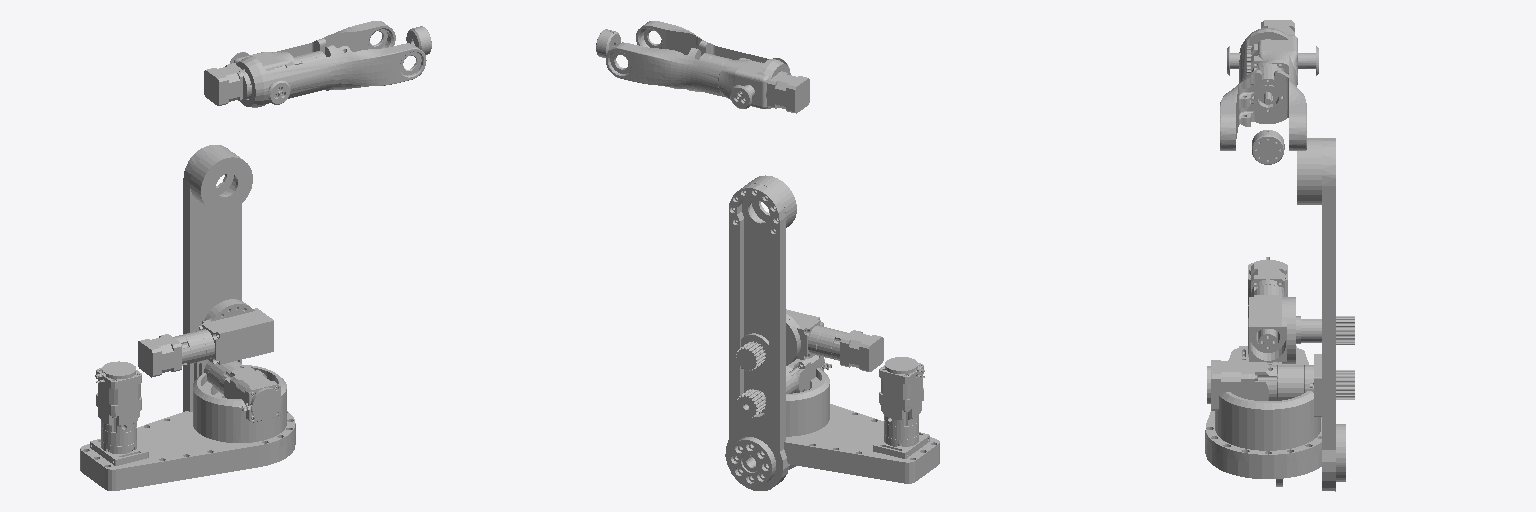
robot.urdf — robotic_arm:
<?xml version="1.0" encoding="utf-8"?>
<!-- This URDF was automatically created by SolidWorks to URDF Exporter! Originally created by [author] ([email redacted]) 
     Commit Version: 1.6.0-4-g7f85cfe  Build Version: 1.6.7995.38578
     For more information, please see http://wiki.ros.org/sw_urdf_exporter -->
<robot
  name="robotic_arm">
  <link
    name="base_link">
    <inertial>
      <origin
        xyz="-0.064318 0.039257 -2.9623E-07"
        rpy="0 0 0" />
      <mass
        value="0.83438" />
      <inertia
        ixx="0.00098057"
        ixy="2.6509E-06"
        ixz="-6.484E-08"
        iyy="0.0033643"
        iyz="3.8674E-10"
        izz="0.0027303" />
    </inertial>
    <visual>
      <origin
        xyz="0 0 0"
        rpy="0 0 0" />
      <geometry>
        <mesh
          filename="package://arm_control/description/meshes/base_link.STL" />
      </geometry>
      <material
        name="">
        <color
          rgba="0.75294 0.75294 0.75294 1" />
      </material>
    </visual>
    <collision>
      <origin
        xyz="0 0 0"
        rpy="0 0 0" />
      <geometry>
        <mesh
          filename="package://arm_control/description/meshes/base_link.STL" />
      </geometry>
    </collision>
  </link>
  <link
    name="Link2">
    <inertial>
      <origin
        xyz="4.7367E-05 0.10668 0.020948"
        rpy="0 0 0" />
      <mass
        value="0.97007" />
      <inertia
        ixx="0.0010278"
        ixy="-3.2684E-07"
        ixz="-5.2705E-07"
        iyy="0.001187"
        iyz="2.9768E-06"
        izz="0.00070562" />
    </inertial>
    <visual>
      <origin
        xyz="0 0 0"
        rpy="0 0 0" />
      <geometry>
        <mesh
          filename="package://arm_control/description/meshes/Link2.STL" />
      </geometry>
      <material
        name="">
        <color
          rgba="0.75294 0.75294 0.75294 1" />
      </material>
    </visual>
    <collision>
      <origin
        xyz="0 0 0"
        rpy="0 0 0" />
      <geometry>
        <mesh
          filename="package://arm_control/description/meshes/Link2.STL" />
      </geometry>
    </collision>
  </link>
  <joint
    name="J1"
    type="revolute">
    <origin
      xyz="0 0 0"
      rpy="1.5708 0 0" />
    <parent
      link="base_link" />
    <child
      link="Link2" />
    <axis
      xyz="0 1 0" />
    <limit
      lower="0"
      upper="6.28"
      effort="10"
      velocity="10" />
  </joint>
  <link
    name="Link3">
    <inertial>
      <origin
        xyz="-1.46417876076533E-06 0.117729185705366 -0.0378668860722142"
        rpy="0 0 0" />
      <mass
        value="0.577415758791342" />
      <inertia
        ixx="0.0036047406071256"
        ixy="6.47760305401987E-08"
        ixz="1.20114307201049E-07"
        iyy="0.000412136925722125"
        iyz="-1.52201263463148E-05"
        izz="0.00360983067595921" />
    </inertial>
    <visual>
      <origin
        xyz="0 0 0"
        rpy="0 0 0" />
      <geometry>
        <mesh
          filename="package://arm_control/description/meshes/Link3.STL" />
      </geometry>
      <material
        name="">
        <color
          rgba="0.752941176470588 0.752941176470588 0.752941176470588 1" />
      </material>
    </visual>
    <collision>
      <origin
        xyz="0 0 0"
        rpy="0 0 0" />
      <geometry>
        <mesh
          filename="package://arm_control/description/meshes/Link3.STL" />
      </geometry>
    </collision>
  </link>
  <joint
    name="J2"
    type="revolute">
    <origin
      xyz="0 0.14 0"
      rpy="0 0 0" />
    <parent
      link="Link2" />
    <child
      link="Link3" />
    <axis
      xyz="0 0 1" />
    <limit
      lower="-1.570796"
      upper="1.570796"
      effort="10"
      velocity="10" />
  </joint>
  <link
    name="Link4">
    <inertial>
      <origin
        xyz="-0.0328882111255075 8.45678153449381E-07 -0.0129958354849986"
        rpy="0 0 0" />
      <mass
        value="0.251663957012598" />
      <inertia
        ixx="6.72067273429369E-05"
        ixy="4.83904268931015E-09"
        ixz="-2.18784718458252E-08"
        iyy="0.000125285505512965"
        iyz="3.49876226111741E-15"
        izz="0.000132327236956115" />
    </inertial>
    <visual>
      <origin
        xyz="0 0 0"
        rpy="0 0 0" />
      <geometry>
        <mesh
          filename="package://arm_control/description/meshes/Link4.STL" />
      </geometry>
      <material
        name="">
        <color
          rgba="0.752941176470588 0.752941176470588 0.752941176470588 1" />
      </material>
    </visual>
    <collision>
      <origin
        xyz="0 0 0"
        rpy="0 0 0" />
      <geometry>
        <mesh
          filename="package://arm_control/description/meshes/Link4.STL" />
      </geometry>
    </collision>
  </link>
  <joint
    name="J3"
    type="revolute">
    <origin
      xyz="0 0.322 0"
      rpy="0 0 0" />
    <parent
      link="Link3" />
    <child
      link="Link4" />
    <axis
      xyz="0 0 1" />
    <limit
      lower="-1.5708"
      upper="1.5708"
      effort="10"
      velocity="10" />
  </joint>
  <link
    name="Link5">
    <inertial>
      <origin
        xyz="0.0959443943416938 -0.000157341805081312 0.00107507946414181"
        rpy="0 0 0" />
      <mass
        value="0.300029724080392" />
      <inertia
        ixx="0.000212980238434561"
        ixy="-2.15575269645667E-07"
        ixz="-1.61941970571356E-05"
        iyy="0.000911097635242398"
        iyz="-6.20583191016507E-08"
        izz="0.000780565263645566" />
    </inertial>
    <visual>
      <origin
        xyz="0 0 0"
        rpy="0 0 0" />
      <geometry>
        <mesh
          filename="package://arm_control/description/meshes/Link5.STL" />
      </geometry>
      <material
        name="">
        <color
          rgba="0.752941176470588 0.752941176470588 0.752941176470588 1" />
      </material>
    </visual>
    <collision>
      <origin
        xyz="0 0 0"
        rpy="0 0 0" />
      <geometry>
        <mesh
          filename="package://arm_control/description/meshes/Link5.STL" />
      </geometry>
    </collision>
  </link>
  <joint
    name="J4"
    type="revolute">
    <origin
      xyz="0.03 0 0"
      rpy="0 0 0" />
    <parent
      link="Link4" />
    <child
      link="Link5" />
    <axis
      xyz="1 0 0" />
    <limit
      lower="0"
      upper="6.28"
      effort="10"
      velocity="10" />
  </joint>
  <link
    name="Link6">
    <inertial>
      <origin
        xyz="-0.00928310094878421 1.2483555139553E-05 -0.00856165178953772"
        rpy="0 0 0" />
      <mass
        value="0.155889261418066" />
      <inertia
        ixx="4.28549661625321E-05"
        ixy="-4.59578584586532E-08"
        ixz="1.10962985052539E-06"
        iyy="9.76511984630011E-05"
        iyz="4.4341918291842E-09"
        izz="9.25375630975331E-05" />
    </inertial>
    <visual>
      <origin
        xyz="0 0 0"
        rpy="0 0 0" />
      <geometry>
        <mesh
          filename="package://arm_control/description/meshes/Link6.STL" />
      </geometry>
      <material
        name="">
        <color
          rgba="0.752941176470588 0.752941176470588 0.752941176470588 1" />
      </material>
    </visual>
    <collision>
      <origin
        xyz="0 0 0"
        rpy="0 0 0" />
      <geometry>
        <mesh
          filename="package://arm_control/description/meshes/Link6.STL" />
      </geometry>
    </collision>
  </link>
  <joint
    name="J5"
    type="revolute">
    <origin
      xyz="0.20275 0 0"
      rpy="3.1416 0 0" />
    <parent
      link="Link5" />
    <child
      link="Link6" />
    <axis
      xyz="0 0 1" />
    <limit
      lower="-1.570796"
      upper="1.570796"
      effort="10"
      velocity="10" />
  </joint>
  <link
    name="Link7">
    <inertial>
      <origin
        xyz="0.00833988976417116 0.000113774503086972 -1.32769045757541E-10"
        rpy="0 0 0" />
      <mass
        value="0.0135263682638669" />
      <inertia
        ixx="2.02217071919662E-06"
        ixy="5.87479646435333E-09"
        ixz="-8.97698504636946E-15"
        iyy="1.3204524747585E-06"
        iyz="-1.52963229443247E-14"
        izz="1.3036592664547E-06" />
    </inertial>
    <visual>
      <origin
        xyz="0 0 0"
        rpy="0 0 0" />
      <geometry>
        <mesh
          filename="package://arm_control/description/meshes/Link7.STL" />
      </geometry>
      <material
        name="">
        <color
          rgba="0.752941176470588 0.752941176470588 0.752941176470588 1" />
      </material>
    </visual>
    <collision>
      <origin
        xyz="0 0 0"
        rpy="0 0 0" />
      <geometry>
        <mesh
          filename="package://arm_control/description/meshes/Link7.STL" />
      </geometry>
    </collision>
  </link>
  <joint
    name="J6"
    type="revolute">
    <origin
      xyz="0.02825 0 -0.01"
      rpy="-3.1416 0 0" />
    <parent
      link="Link6" />
    <child
      link="Link7" />
    <axis
      xyz="1 0 0" />
    <limit
      lower="0"
      upper="6.28"
      effort="10"
      velocity="10" />
  </joint>
</robot>

--- Render facts (derived) ---
3 views of the same robot in one strip: view 1: azimuth 30°, elevation 25°; view 2: azimuth 150°, elevation 25°; view 3: azimuth 270°, elevation 25° (orthographic).
Robot: robotic_arm — 7 links, 6 joints (6 revolute); root link base_link; default pose: all joints at 0.
Visible links, largest first — view 1: base_link, Link2, Link4, Link3, Link5; view 2: Link2, base_link, Link4, Link3, Link5; view 3: Link2, base_link, Link4, Link3, Link5, Link6.
Link boxes in pixels (bbox=[...]): base_link: bbox=[80, 361, 295, 490]; Link2: bbox=[183, 145, 281, 422]; Link4: bbox=[236, 21, 426, 107]; Link3: bbox=[138, 299, 273, 377]; Link5: bbox=[204, 52, 293, 105]; Link2: bbox=[725, 175, 831, 490]; base_link: bbox=[752, 357, 939, 483]; Link4: bbox=[606, 21, 790, 108]; Link3: bbox=[735, 309, 883, 371]; Link5: bbox=[718, 58, 809, 113]; Link2: bbox=[1207, 138, 1354, 491]; base_link: bbox=[1205, 257, 1321, 478]; Link4: bbox=[1220, 28, 1306, 150]; Link3: bbox=[1249, 263, 1354, 363]; Link5: bbox=[1227, 20, 1318, 84]; Link6: bbox=[1252, 130, 1284, 164].
Size in the robot's own frame: 0.4463 by 0.1544 by 0.532 metres.
6 mesh visuals loaded from 7 distinct referenced files (6 binary STL); not drawn: 1 (reference not matched to a file when rendering).